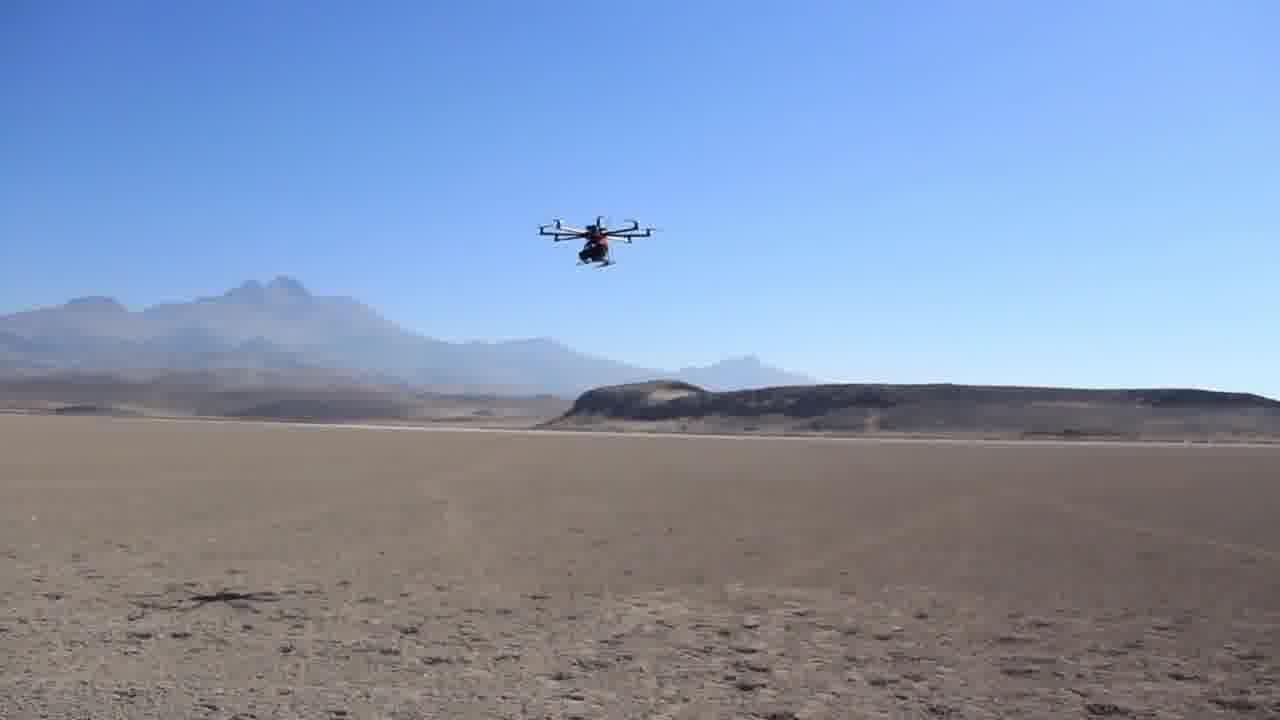drone: (527, 201, 665, 284)
